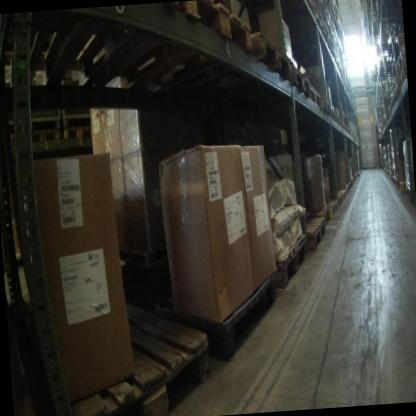pallet: (51, 0, 263, 125), (44, 282, 226, 416), (116, 20, 299, 134), (0, 5, 153, 109), (137, 263, 287, 368), (223, 63, 316, 135), (264, 232, 314, 297), (5, 119, 60, 157), (299, 214, 327, 257), (295, 200, 333, 231), (62, 123, 106, 147), (373, 0, 402, 30), (297, 13, 328, 40), (303, 76, 323, 112), (281, 0, 316, 16), (329, 52, 344, 77), (319, 35, 333, 61), (320, 92, 331, 118), (326, 197, 339, 218), (397, 67, 407, 94), (393, 79, 404, 103), (326, 103, 336, 125), (398, 177, 409, 196), (327, 4, 339, 20), (333, 192, 343, 210), (341, 185, 351, 200), (333, 111, 341, 129), (389, 93, 397, 111), (391, 172, 400, 188), (339, 188, 347, 203), (349, 178, 355, 189), (356, 172, 362, 183), (323, 0, 332, 6)
stillage: (323, 137, 351, 189), (350, 144, 358, 179)
